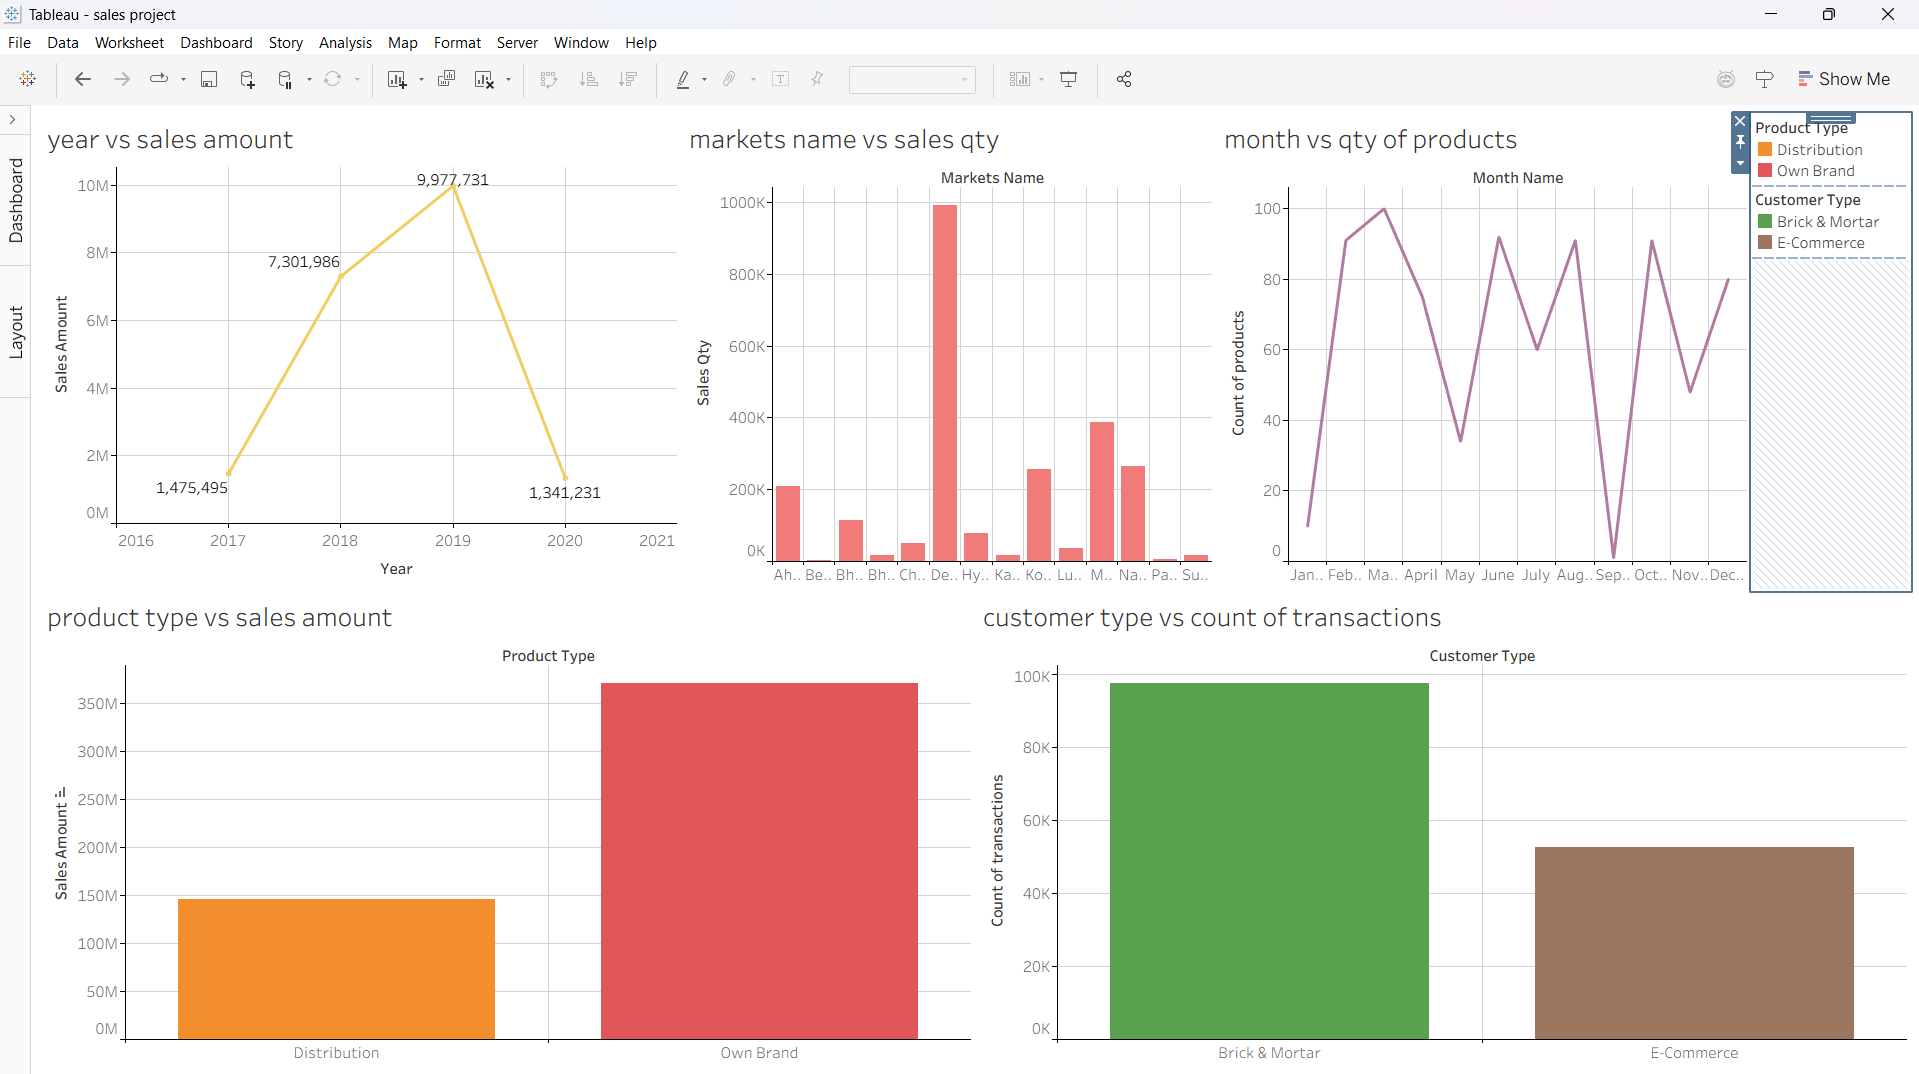

This screenshot's page, from the dashboard's own definition file:
{"tool":"tableau","page":{"name":"Dashboard 1","canvas":[1000,1000],"units":"permille","ordinal":0},"visuals":[{"type":"worksheet","title":"Sheet 4","mark":"Automatic","rows":["sales_amount"],"cols":["year"],"box":[4.7,8.2,336.3,491.8]},{"type":"worksheet","title":"Sheet 5","mark":"Bar","rows":["sales_qty"],"cols":["markets_name"],"box":[341,8.2,280.3,491.8]},{"type":"worksheet","title":"Sheet 2","mark":"Line","rows":["products_541A064E5DEF4861A25B7315FF048E85"],"cols":["month_name"],"box":[621.3,8.2,280.3,491.8]},{"type":"legend","title":"Sheet 1","param":"[federated.1ribsjb165ldif127td4e1idzbv2].[none:product_type:nk]","box":[901.6,8.2,93.7,74.2]},{"type":"legend","title":"Sheet 3","param":"[federated.1ribsjb165ldif127td4e1idzbv2].[none:customer_type:nk]","box":[901.6,82.4,93.7,74.2]},{"type":"worksheet","title":"Sheet 1","mark":"Bar","rows":["sales_amount"],"cols":["product_type"],"box":[4.7,500,495.3,491.8]},{"type":"worksheet","title":"Sheet 3","mark":"Automatic","rows":["transactions_499AB864AE3E408F9741DDF658CE17B7"],"cols":["customer_type"],"box":[500,500,495.3,491.8]}]}

Visuals, with their boxes on the dashboard's canvas, which has no fixed pixel size, in thousandths of its width and height (x1, y1, x2, y2). These are canvas units, not pixel positions in the 1919x1074 screenshot, which may show the page scaled, cropped or inside an application window:
"Sheet 4" worksheet: Rect(5, 8, 341, 500)
"Sheet 5" worksheet (Bar marks): Rect(341, 8, 621, 500)
"Sheet 2" worksheet (Line marks): Rect(621, 8, 902, 500)
"Sheet 1" legend: Rect(902, 8, 995, 82)
"Sheet 3" legend: Rect(902, 82, 995, 157)
"Sheet 1" worksheet (Bar marks): Rect(5, 500, 500, 992)
"Sheet 3" worksheet: Rect(500, 500, 995, 992)
